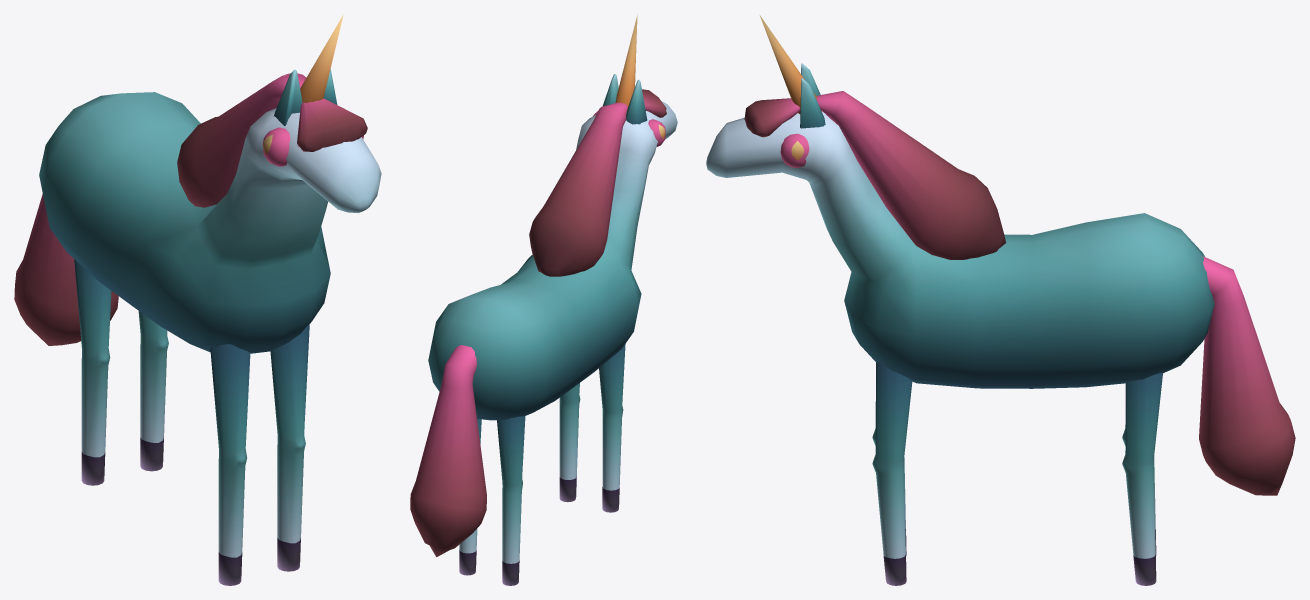
Rendered from SM_Unicorn.fbx.
3 renders of one model, left to right at view 1: azimuth 30°, elevation 25°; view 2: azimuth 150°, elevation 25°; view 3: azimuth 270°, elevation 25°, orthographic. The views are drawn at different scales.
Parts seen in each view (by area): view 1: SM_Unicorn; view 2: SM_Unicorn; view 3: SM_Unicorn.
Part boxes in pixels (bbox=[...]): SM_Unicorn: bbox=[14, 14, 381, 585]; SM_Unicorn: bbox=[410, 14, 677, 585]; SM_Unicorn: bbox=[706, 15, 1295, 585].
Size of the model in its own units: 131 by 488 by 466.
